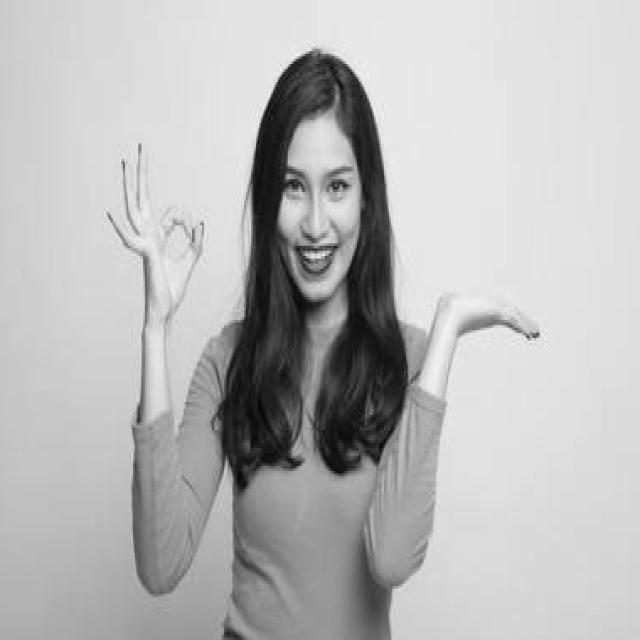perfect: (102, 135, 210, 331)
